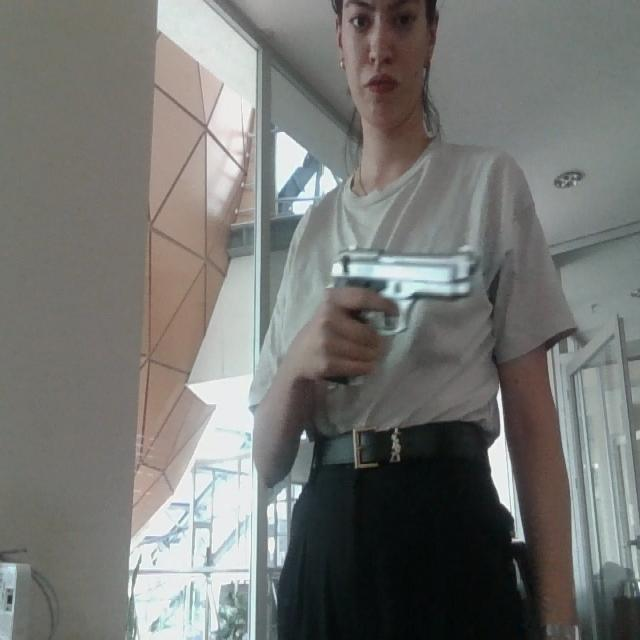handgun: (322, 223, 512, 440)
